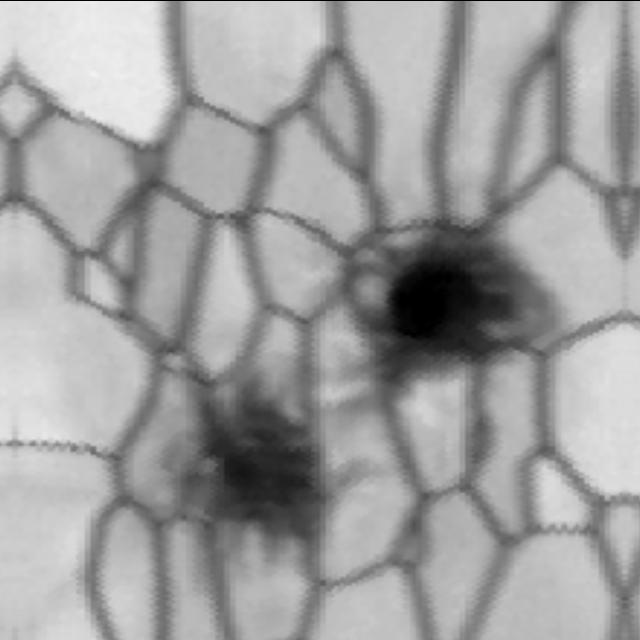good_void: (321, 183, 566, 419), (146, 340, 358, 580)
